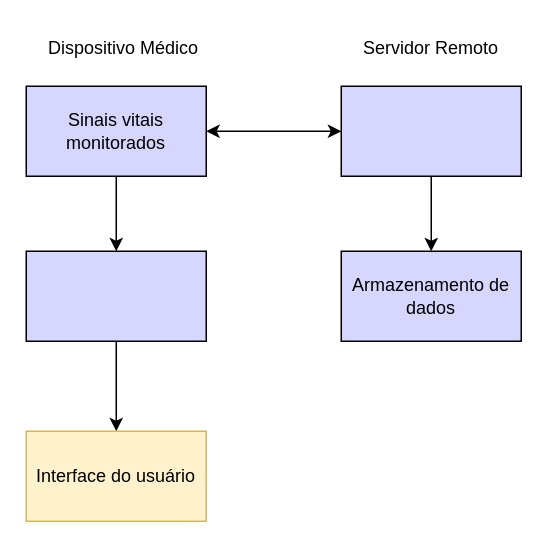
Some shapes in this 548 by 548 pixel diagram are drawn without their labels. The box of each missing label's shape, as (x1, y1, x2, y2) in pixels:
Comunicação segura: (25, 250, 206, 341)
Recebimento de dados: (340, 85, 521, 176)
